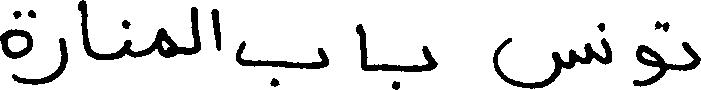X: (493, 33, 591, 89), (237, 36, 327, 89), (34, 7, 67, 89), (0, 5, 32, 89), (634, 16, 666, 89), (78, 0, 90, 61), (156, 23, 174, 62), (683, 37, 700, 75), (357, 19, 367, 75), (122, 15, 132, 61), (602, 18, 611, 69), (423, 41, 436, 75), (192, 2, 199, 58), (212, 4, 218, 55)
